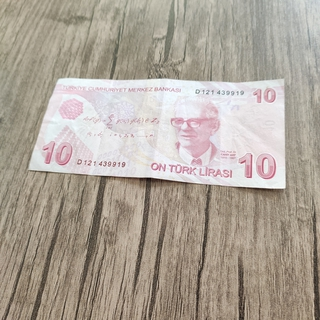10TLBack: (26, 76, 287, 190)
